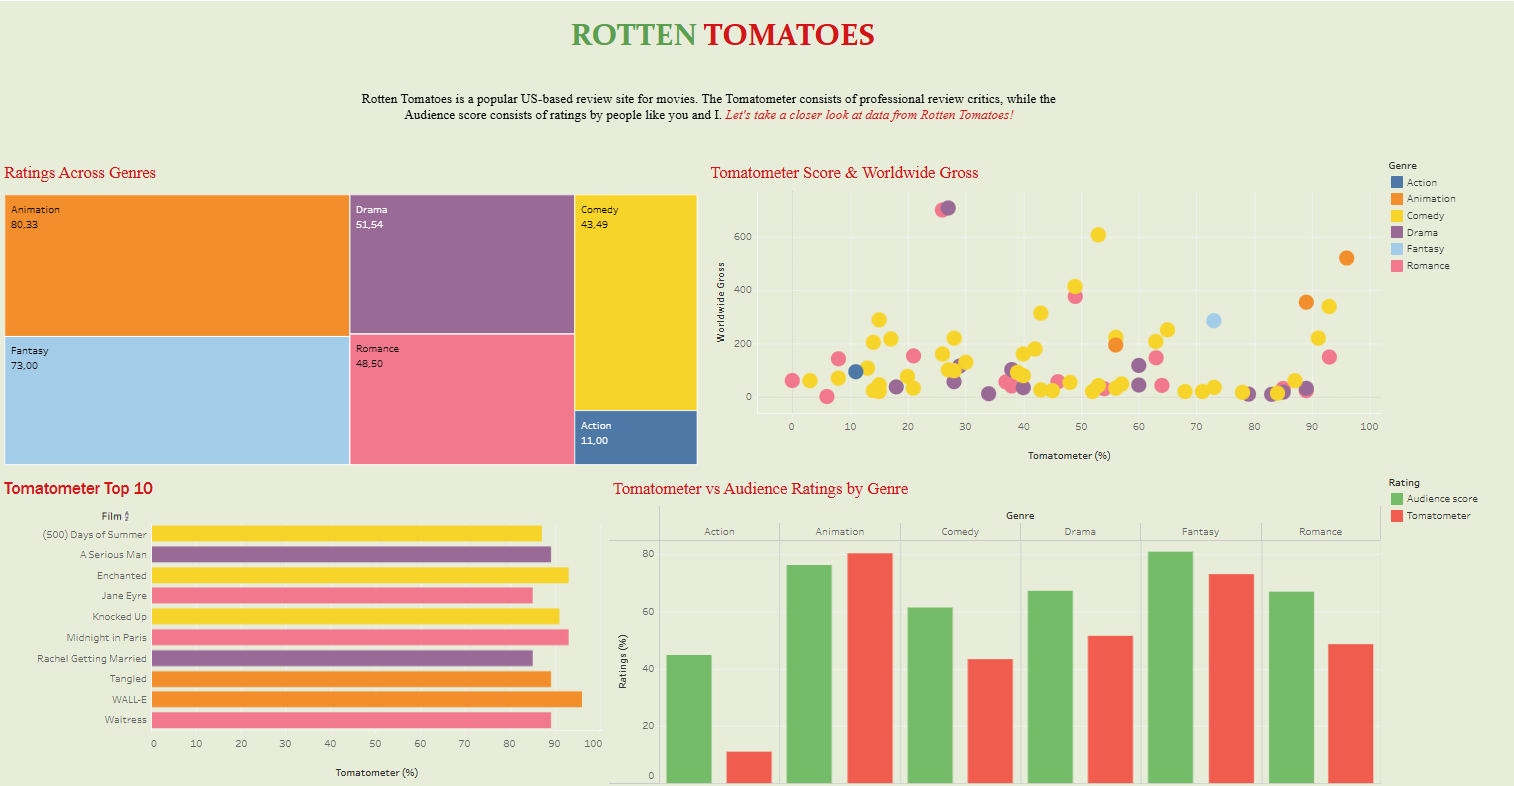

Layout of this report page (visuals, bound fields, positions):
{"tool":"tableau","page":{"name":"Dashboard 1","canvas":[1000,1000],"units":"permille","ordinal":0},"visuals":[{"type":"blank","box":[4.3,8.3,991.4,192.7]},{"type":"text","box":[234.6,77.1,466.7,128.1]},{"type":"worksheet","title":"ratings across genres","mark":"Automatic","box":[4.3,201,460.2,395.3]},{"type":"worksheet","title":"tomatometer score & worldwide gross","mark":"Circle","rows":["Worldwide Gross"],"cols":["Rotten Tomatoes %"],"box":[464.5,201,444.7,395.3]},{"type":"legend","title":"tomatometer score & worldwide gross","param":"[federated.0dfl3sz1l670qj1gd15210jpjryg].[none:Genre:nk]","box":[909.2,201,86.5,395.8]},{"type":"worksheet","title":"tomatometer top 10","mark":"Automatic","rows":["Film"],"cols":["Rotten Tomatoes %"],"box":[4.3,596.4,396.5,395.3]},{"type":"worksheet","title":"Tomatometer vs Audience Ratings by Genre","mark":"Automatic","cols":["Genre"],"box":[400.8,596.4,508.4,395.3]},{"type":"legend","title":"Tomatometer vs Audience Ratings by Genre","param":"[federated.0dfl3sz1l670qj1gd15210jpjryg].[:Measure Names]","box":[909.2,596.9,86.5,394.8]}]}

Visuals, with their boxes on the dashboard's canvas, which has no fixed pixel size, in thousandths of its width and height (x1, y1, x2, y2). These are canvas units, not pixel positions in the 1514x786 screenshot, which may show the page scaled, cropped or inside an application window:
blank: bbox=(4, 8, 996, 201)
text: bbox=(235, 77, 701, 205)
"ratings across genres" worksheet: bbox=(4, 201, 464, 596)
"tomatometer score & worldwide gross" worksheet (Circle marks): bbox=(464, 201, 909, 596)
"tomatometer score & worldwide gross" legend: bbox=(909, 201, 996, 597)
"tomatometer top 10" worksheet: bbox=(4, 596, 401, 992)
"Tomatometer vs Audience Ratings by Genre" worksheet: bbox=(401, 596, 909, 992)
"Tomatometer vs Audience Ratings by Genre" legend: bbox=(909, 597, 996, 992)
